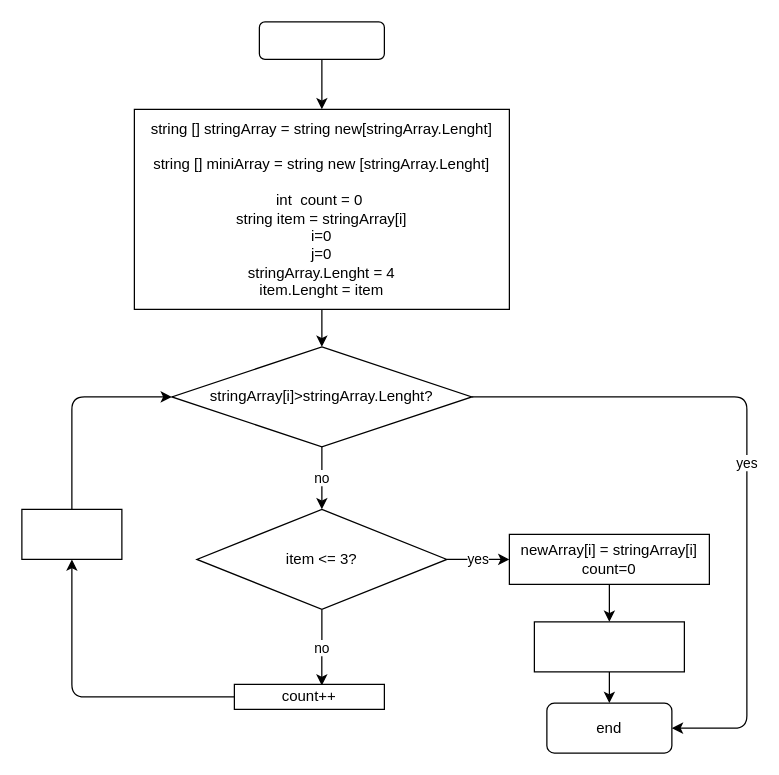
Some shapes in this 779 by 775 pixel diagram are drawn without their labels. Each missing label, with the centre of its shape:
i++ j++: the point at 71,533
string [] newArray: the point at 608,646
stsrt: the point at 321,40
